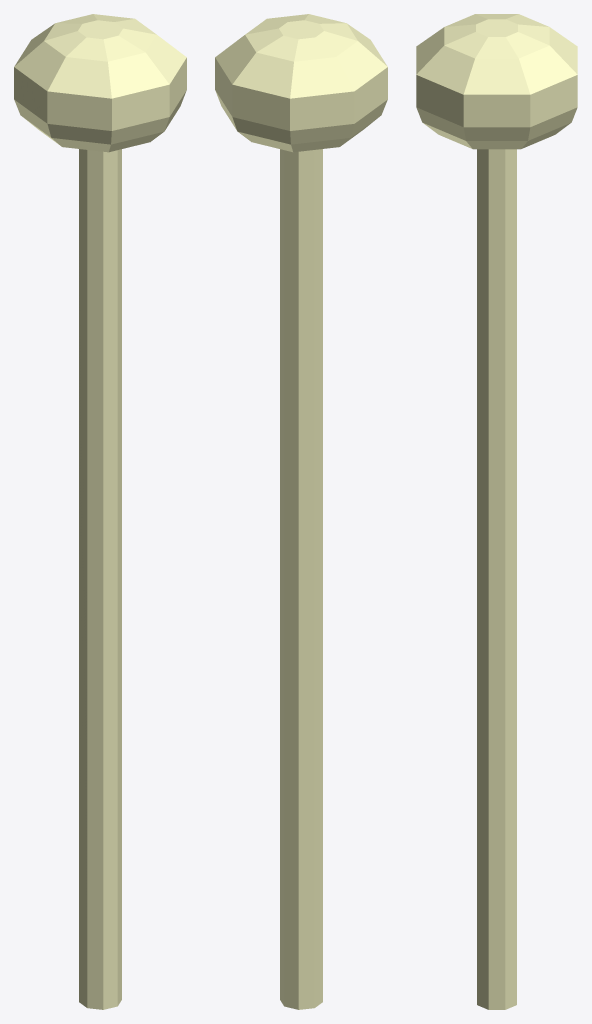
The model's file is Cave_Lair_Vegetation_Swamp_Mushroom_Enoki_01.fbx.
3 renders of one model, left to right at view 1: azimuth 30°, elevation 25°; view 2: azimuth 150°, elevation 25°; view 3: azimuth 270°, elevation 25°, orthographic.
Visible parts, largest first — view 1: Cave_Lair_Vegetation_Swamp_Mushroom_Enoki_01; view 2: Cave_Lair_Vegetation_Swamp_Mushroom_Enoki_01; view 3: Cave_Lair_Vegetation_Swamp_Mushroom_Enoki_01.
Boxes of the visible parts, x1,y1,x2,y2 form: Cave_Lair_Vegetation_Swamp_Mushroom_Enoki_01: (14,14,186,1009); Cave_Lair_Vegetation_Swamp_Mushroom_Enoki_01: (215,14,387,1009); Cave_Lair_Vegetation_Swamp_Mushroom_Enoki_01: (416,14,577,1009).
Bounding box in the file's own units: 0.1406 × 0.9351 × 0.1406.
